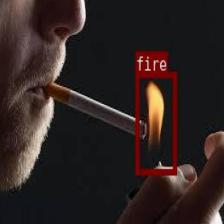fire: (136, 71, 176, 174)
